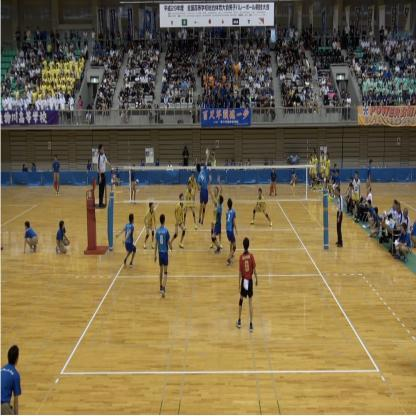spike: (194, 146, 212, 232)
